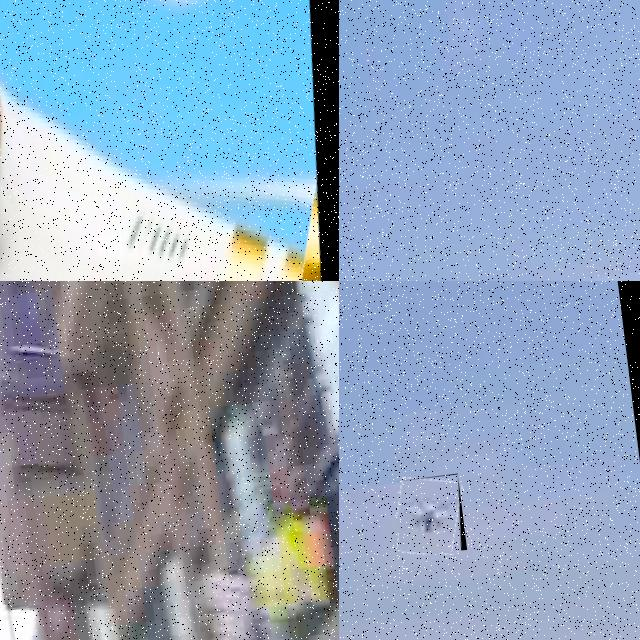drone: (0, 0, 339, 281), (392, 472, 467, 558)
